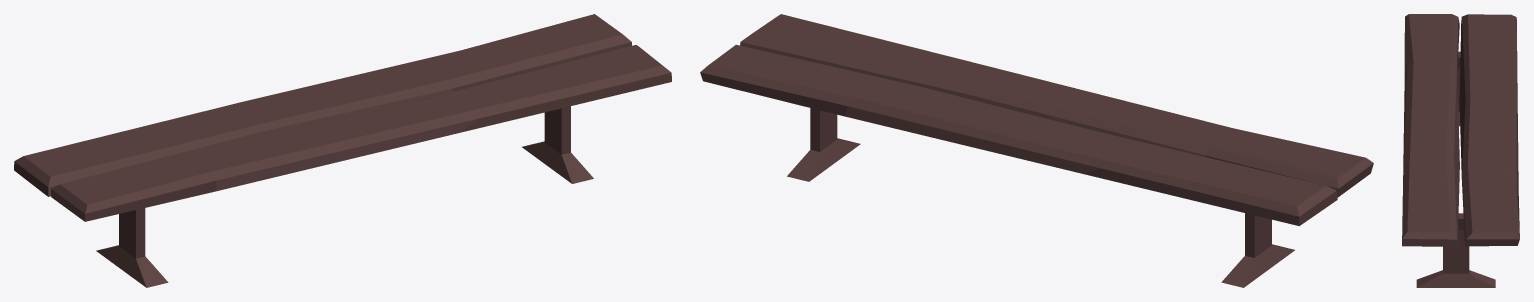
Rendered from fantasy_bench_1.fbx.
3 renders of one model, left to right at view 1: azimuth 30°, elevation 25°; view 2: azimuth 150°, elevation 25°; view 3: azimuth 270°, elevation 25°, orthographic. The views are drawn at different scales.
Visible parts, largest first — view 1: Cube.036; view 2: Cube.036; view 3: Cube.036.
Part boxes in pixels (x1=…): Cube.036: x1=14, y1=14, x2=671, y2=287; Cube.036: x1=700, y1=14, x2=1373, y2=287; Cube.036: x1=1402, y1=14, x2=1519, y2=287.
Bounding box in the file's own units: 300 × 50.09 × 67.11.
